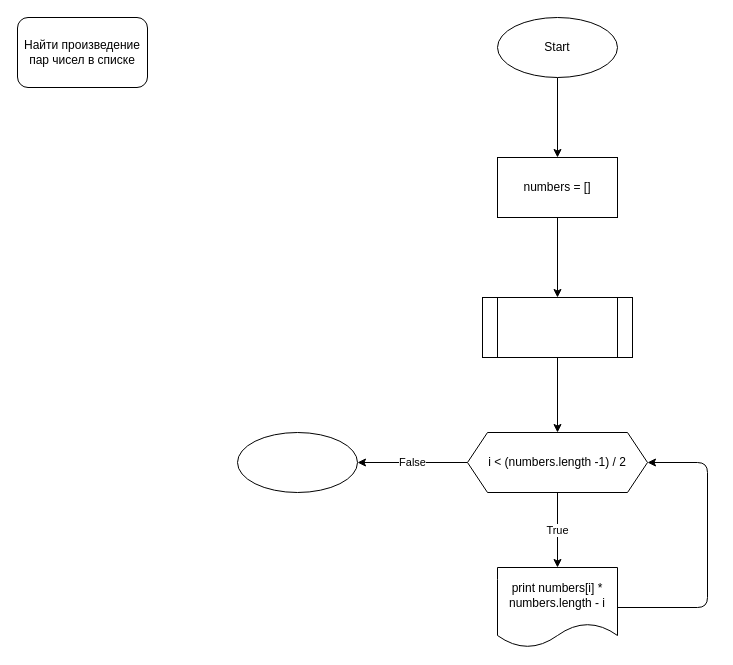
This 733x665 diagram has some shape labels left out. Here are the shapes that lost their labels. From the top down, the centre of each, then its label:
the point at 557,327: fill_method(numbers)
the point at 297,462: End
